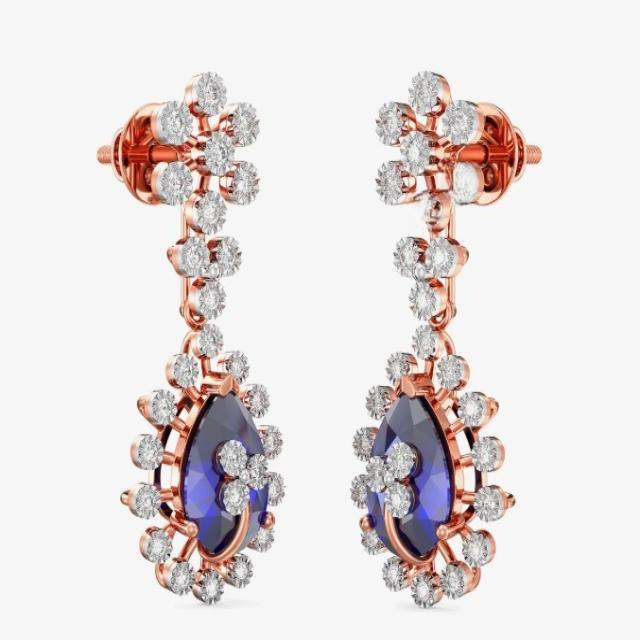missing gem: (453, 163, 481, 205), (414, 191, 443, 229)
